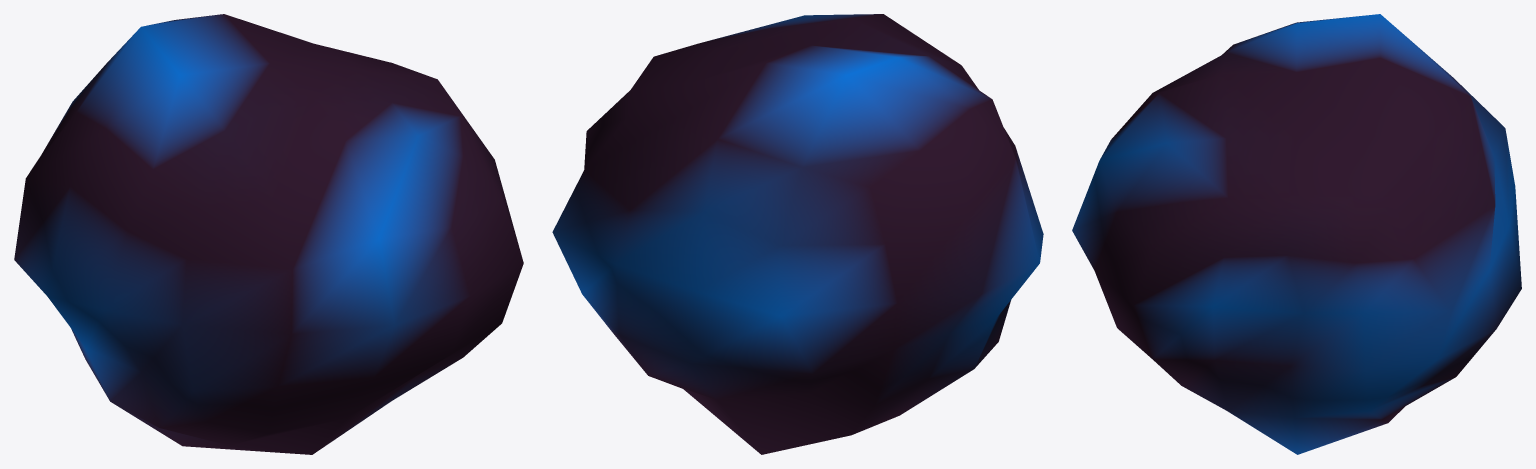
Rendered from AlienRock.fbx.
The picture shows the model from 3 angles, left to right: view 1: azimuth 30°, elevation 25°; view 2: azimuth 150°, elevation 25°; view 3: azimuth 270°, elevation 25°; orthographic projection. The views are drawn at different scales.
Parts seen in each view (by area): view 1: pCube1; view 2: pCube1; view 3: pCube1.
Part boxes in pixels (x1,y1,x2,y2): pCube1: (14, 14, 523, 454); pCube1: (552, 14, 1043, 454); pCube1: (1072, 14, 1521, 454).
Size of the model in its own units: 1.43 by 1.31 by 1.43.
